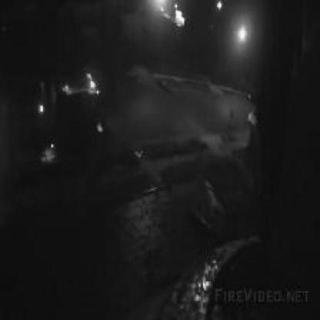other: (60, 61, 112, 97), (218, 12, 258, 56)
